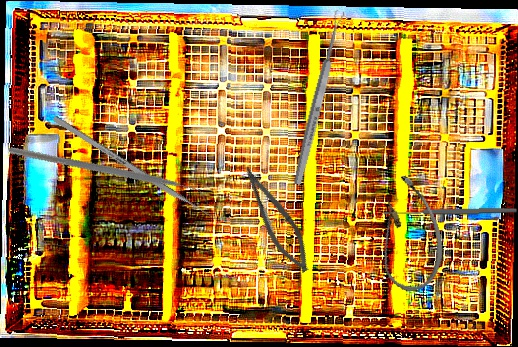Cannula: (361, 170, 454, 297)
Chopper: (8, 90, 209, 263)
Micro Scissor: (230, 161, 321, 279)
Pusher: (52, 115, 223, 226)
Surgical Spoon: (291, 9, 347, 186), (382, 206, 518, 217)
